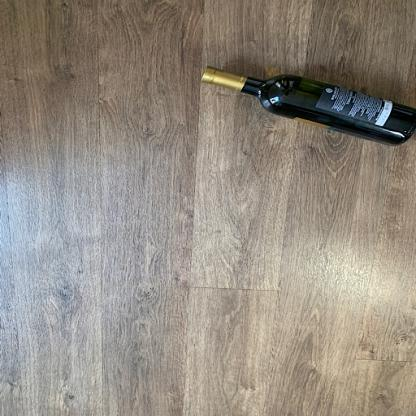trash: (198, 67, 415, 149)
